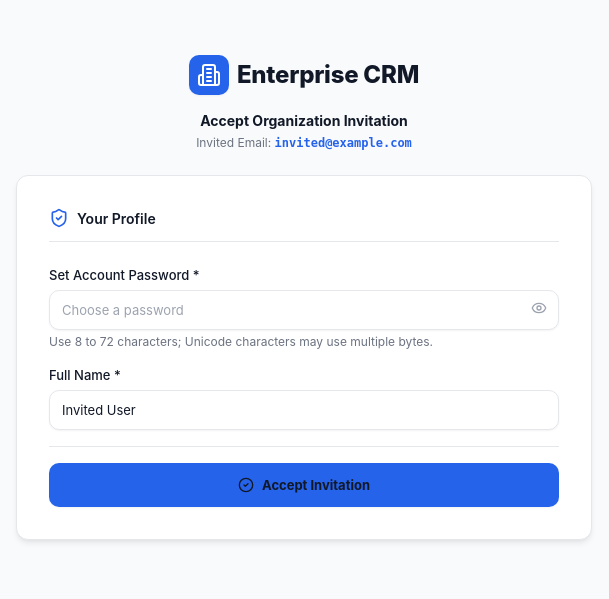
Test: organization invitation acceptance › collects only the invited account details without editing the organization
Type "controlled-test-password" into the password field labelled "Set Account Password *".
click(304, 310); type("controlled-test-password")  # box [49, 290, 559, 330]
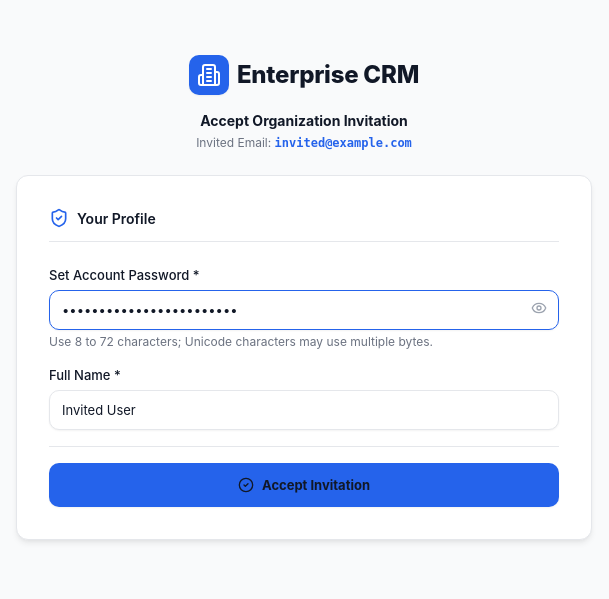
Click the button "Accept Invitation".
click(304, 484)  # box [49, 462, 559, 506]
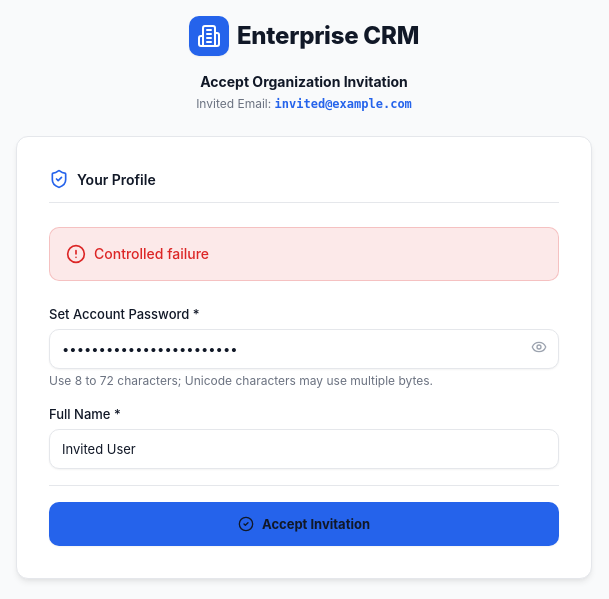
Now the text "Controlled failure" is shown, box [94, 244, 209, 264]
